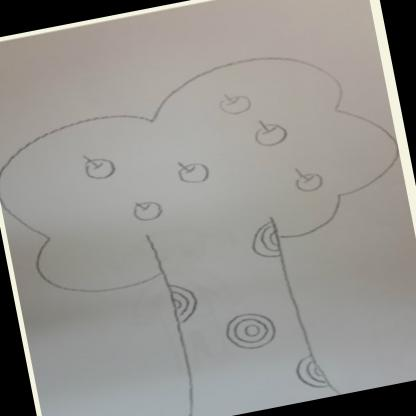apple: (77, 147, 120, 182), (288, 162, 328, 197), (172, 155, 212, 188), (215, 86, 253, 119), (251, 117, 289, 150), (130, 197, 168, 223)
crown_cloud: (0, 35, 414, 308)
knot: (220, 306, 282, 353), (240, 217, 285, 263), (289, 352, 338, 394), (164, 280, 200, 324)
trunk_straight: (164, 256, 322, 395)
